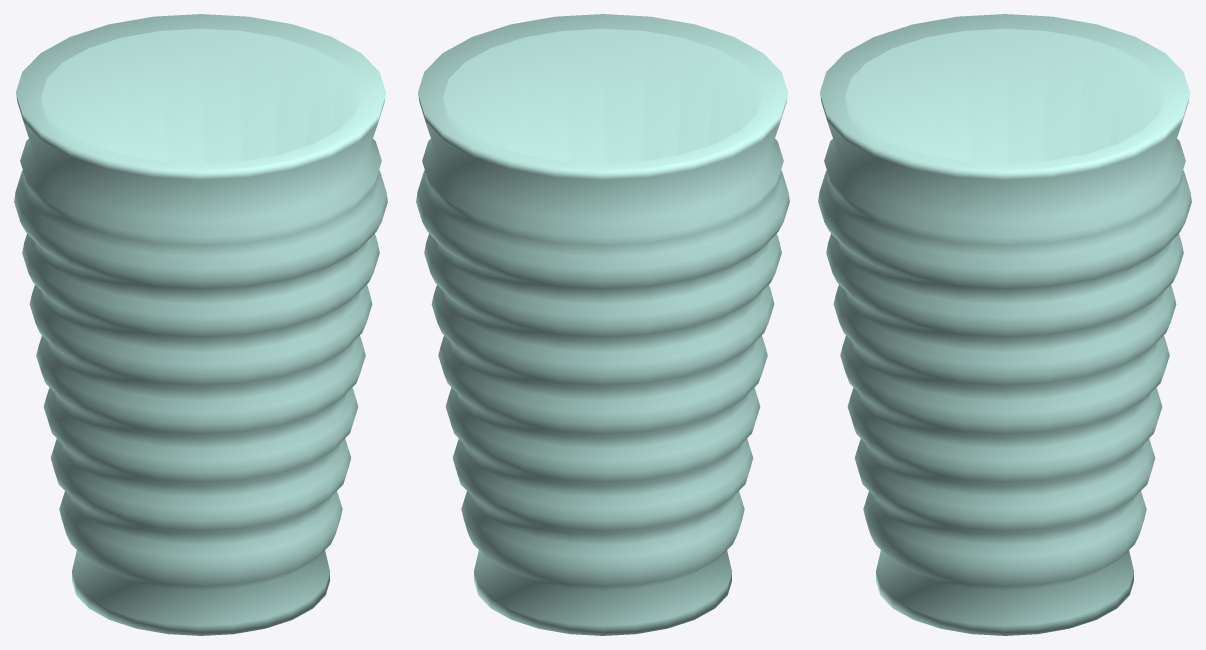
File: glass.fbx
3 renders of one model, left to right at view 1: azimuth 30°, elevation 25°; view 2: azimuth 150°, elevation 25°; view 3: azimuth 270°, elevation 25°, orthographic.
Visible parts, largest first — view 1: Glass; view 2: Glass; view 3: Glass.
Boxes of the visible parts, left/top/right/bottom form: Glass: left=14, top=14, right=387, bottom=635; Glass: left=416, top=14, right=789, bottom=635; Glass: left=818, top=14, right=1191, bottom=635.
Bounding box in the file's own units: 670 × 967 × 670.
